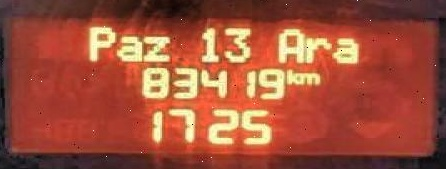1: (197, 25, 218, 61), (147, 105, 162, 144), (241, 65, 255, 98)
2: (205, 108, 238, 144)
3: (222, 25, 252, 64), (170, 65, 196, 99)
4: (198, 67, 228, 97)
5: (238, 106, 272, 145)
7: (165, 105, 195, 142)
8: (140, 67, 168, 98)
9: (257, 65, 283, 98)
X: (86, 24, 115, 60), (275, 27, 303, 63), (140, 31, 170, 60), (330, 34, 358, 63), (303, 35, 330, 62), (116, 33, 140, 62), (296, 70, 320, 85), (283, 66, 297, 84)
